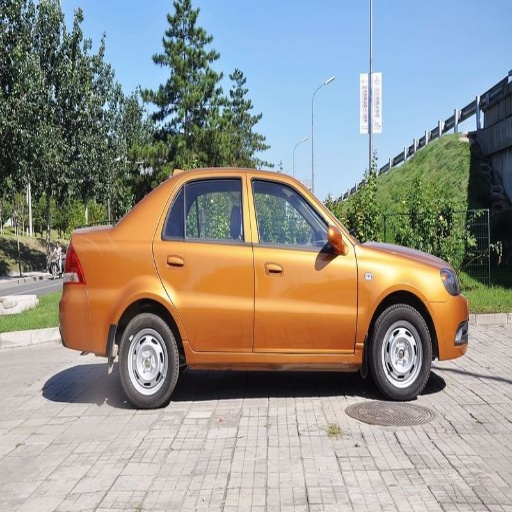back_right_door: (157, 173, 252, 355)
front_right_door: (251, 174, 357, 352)
